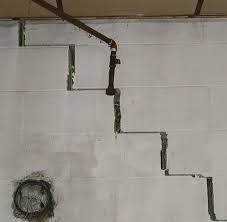stairstep_crack: (16, 17, 226, 221)
